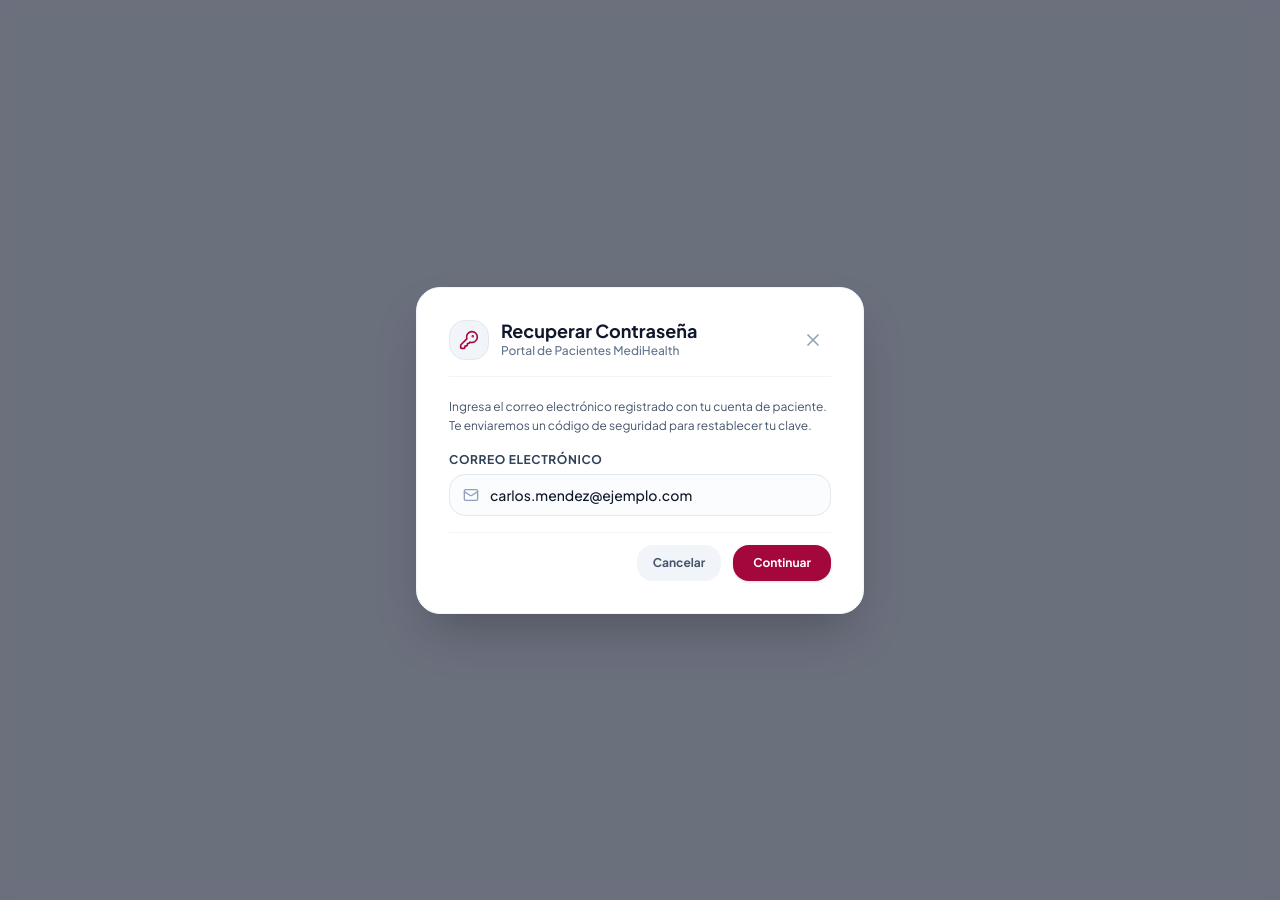
Test case: ForgotPasswordModal - Recuperación de Contraseña (RF-03) › valida que las contraseñas coincidan y tengan mínimo 6 caracteres
Click the button "Continuar": (782,562) [733,544,831,580]
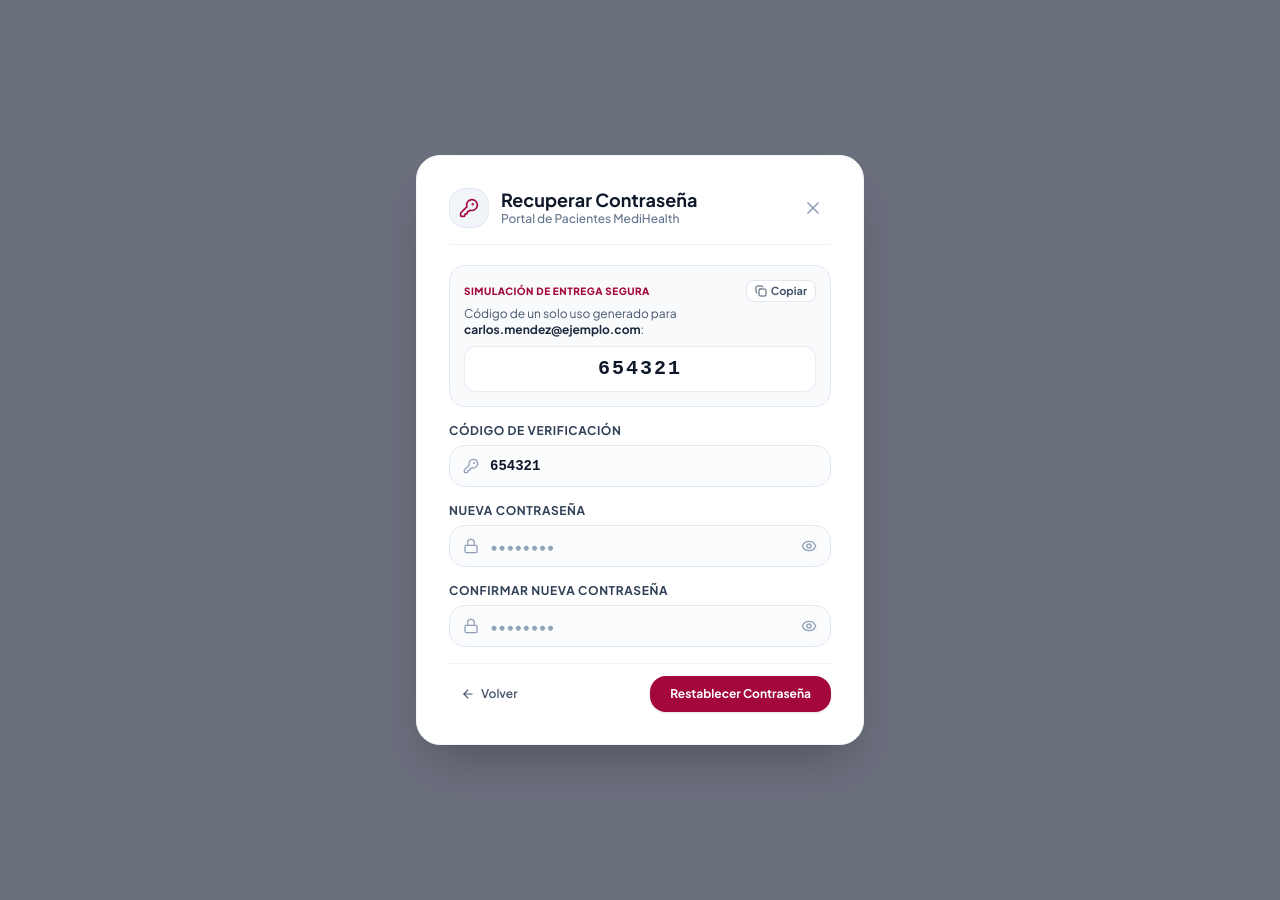
Result: the password field labelled "Nueva Contraseña" is shown
// Contraseña demasiado corta
In the password field labelled "Nueva Contraseña": (640,546) [449,525,831,567], type "123"
In the password field labelled "Confirmar Nueva Contraseña": (640,626) [449,605,831,647], type "123"
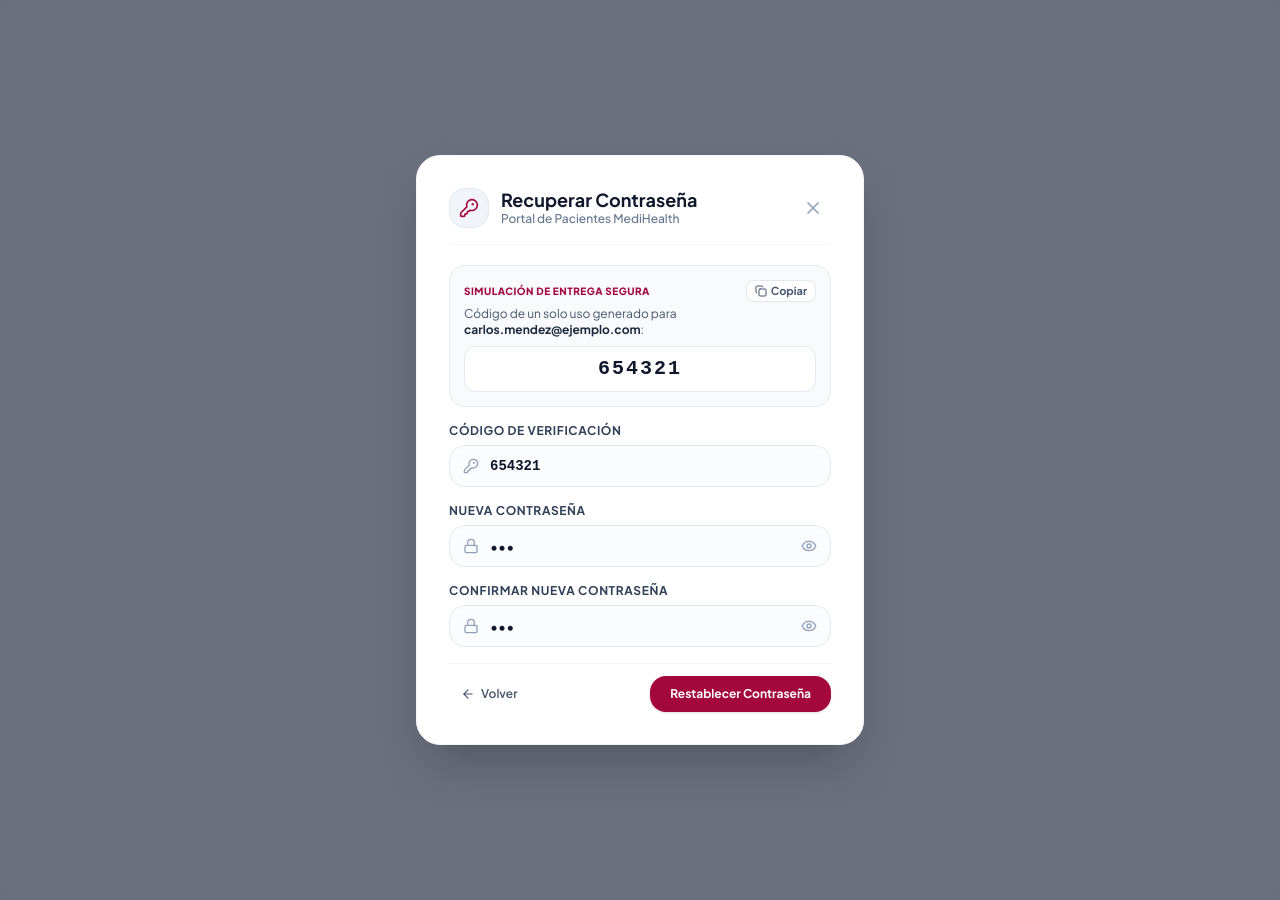
Click the button "Restablecer Contraseña": (741,694) [650,676,831,712]
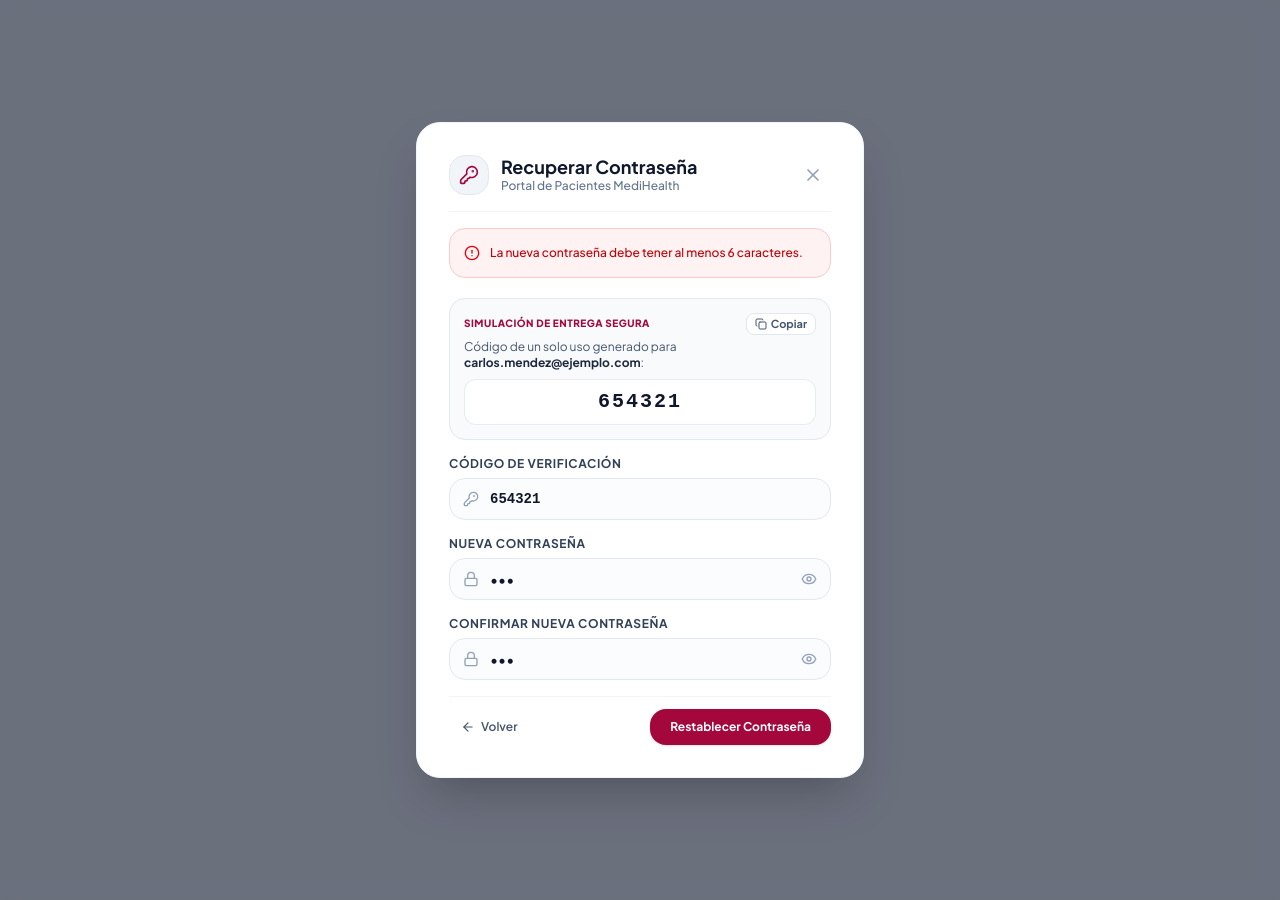
Result: the text "La nueva contraseña debe tener al menos 6 caracteres." is shown at [490,243,803,262]
// Contraseñas no coinciden
In the password field labelled "Nueva Contraseña": (640,579) [449,558,831,600], type "Password123"
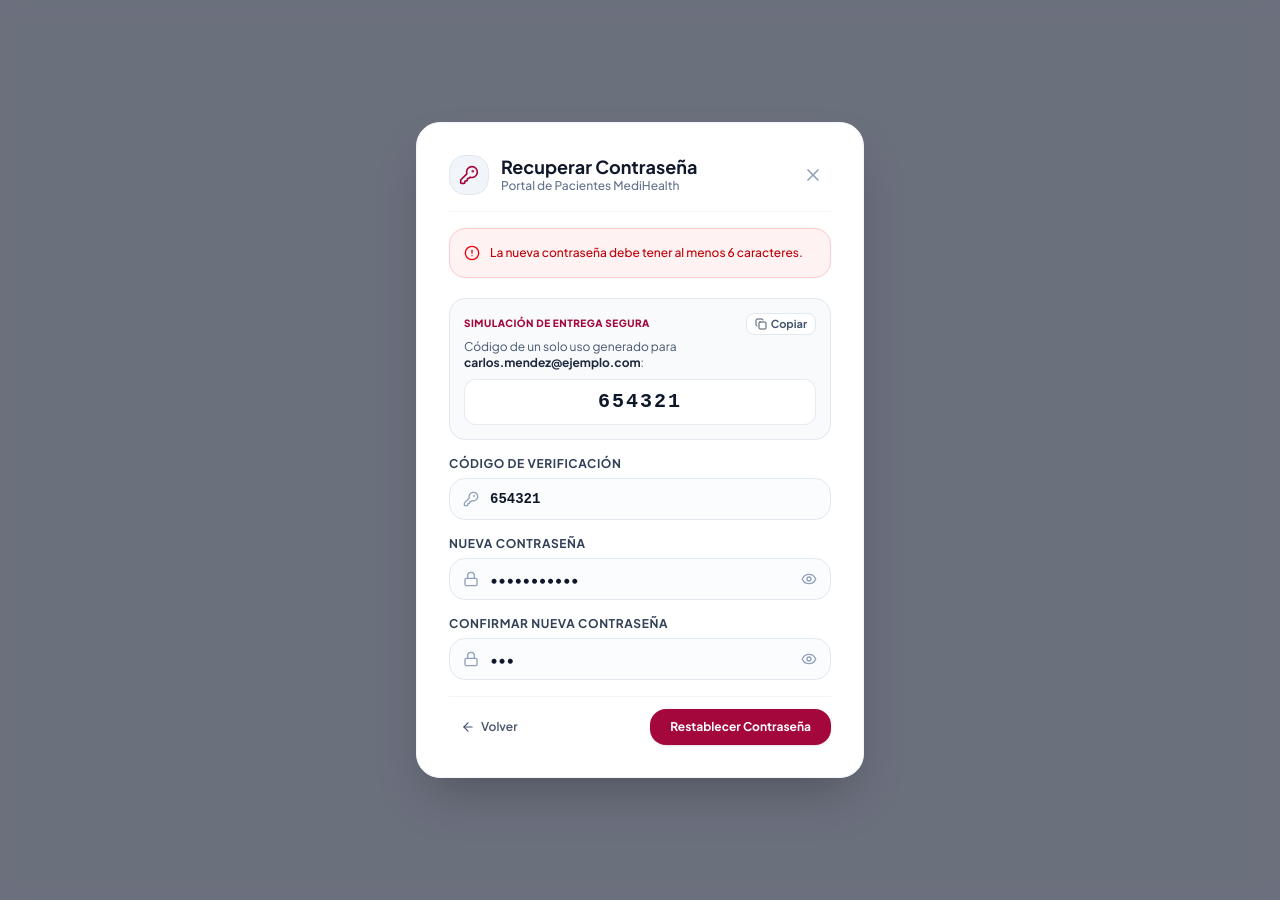
In the password field labelled "Confirmar Nueva Contraseña": (640,659) [449,638,831,680], type "DifferentPassword123"
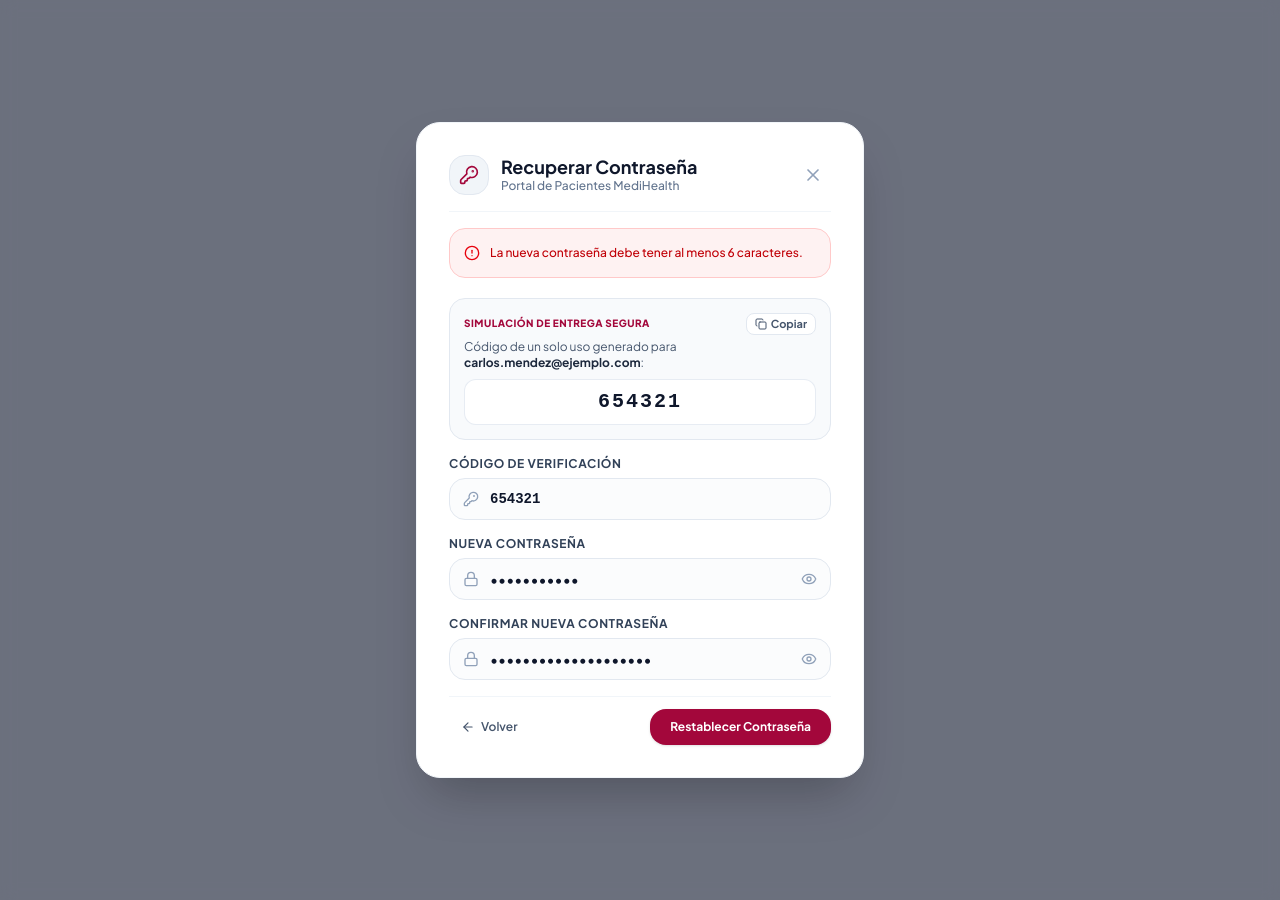
Click the button "Restablecer Contraseña": (741,727) [650,709,831,745]
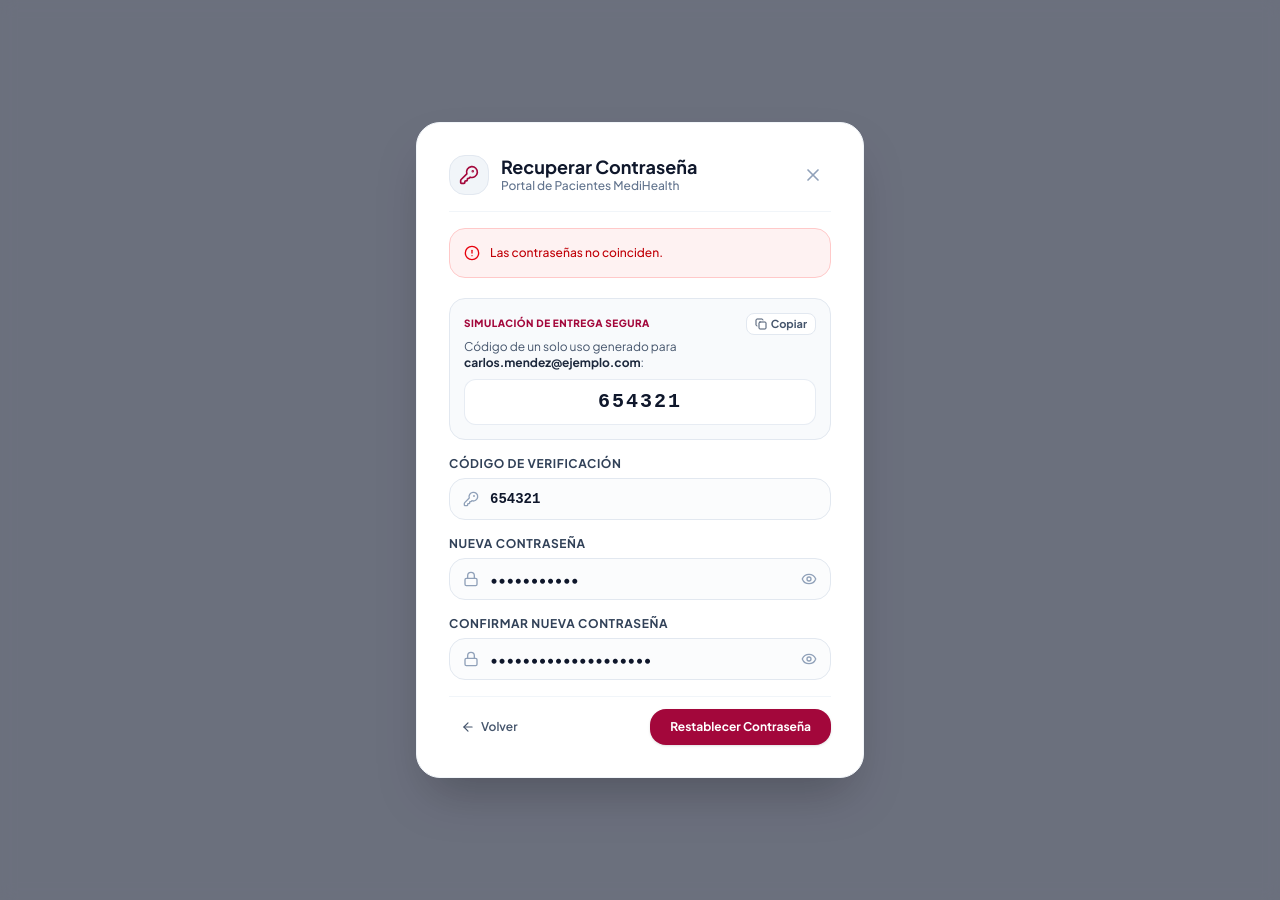
Result: the text "Las contraseñas no coinciden." is shown at [490,243,663,262]
